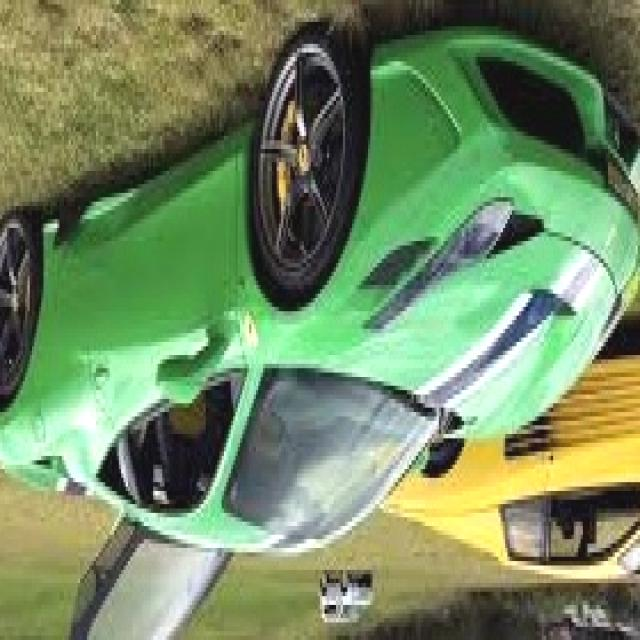green: (0, 0, 640, 561)
